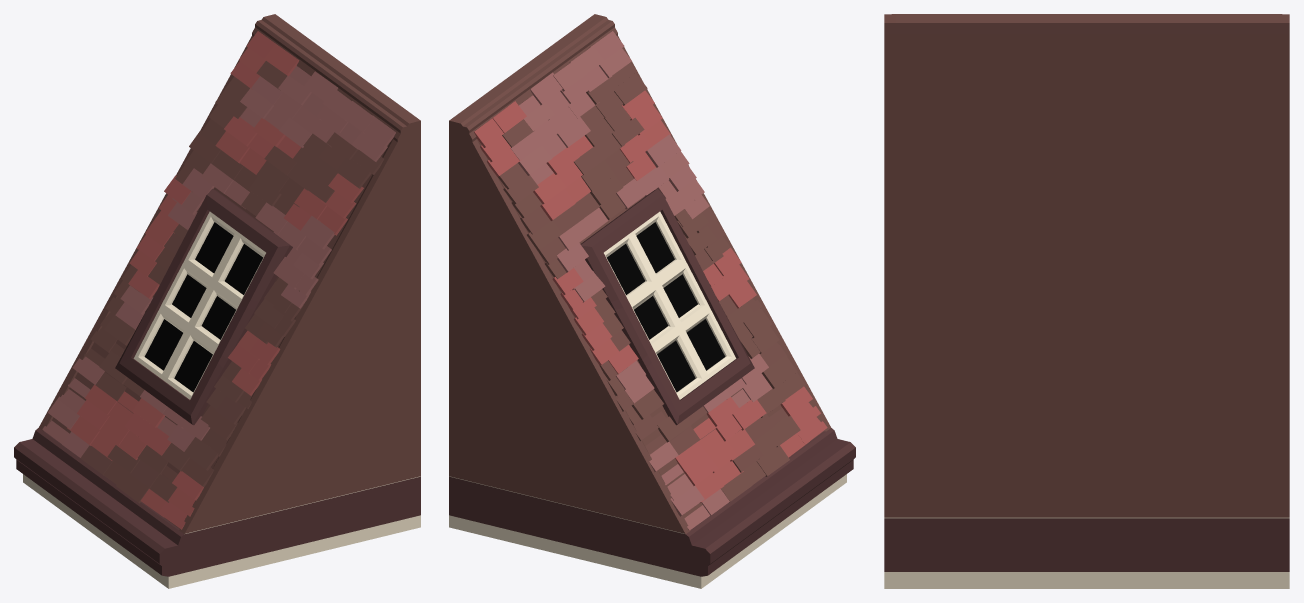
Rendered from Roof_Side_2_S.fbx.
3 views of the same model, side by side, from view 1: azimuth 30°, elevation 25°; view 2: azimuth 150°, elevation 25°; view 3: azimuth 270°, elevation 25° (orthographic). The views are drawn at different scales.
Visible parts, largest first — view 1: Roof_Side_2_S; view 2: Roof_Side_2_S; view 3: Roof_Side_2_S.
Boxes of the visible parts, box(x1,y1,x2,y2) form: Roof_Side_2_S: box(14, 14, 420, 588); Roof_Side_2_S: box(449, 14, 855, 588); Roof_Side_2_S: box(884, 14, 1289, 588).
Size of the model in its own units: 207 by 200 by 308.
